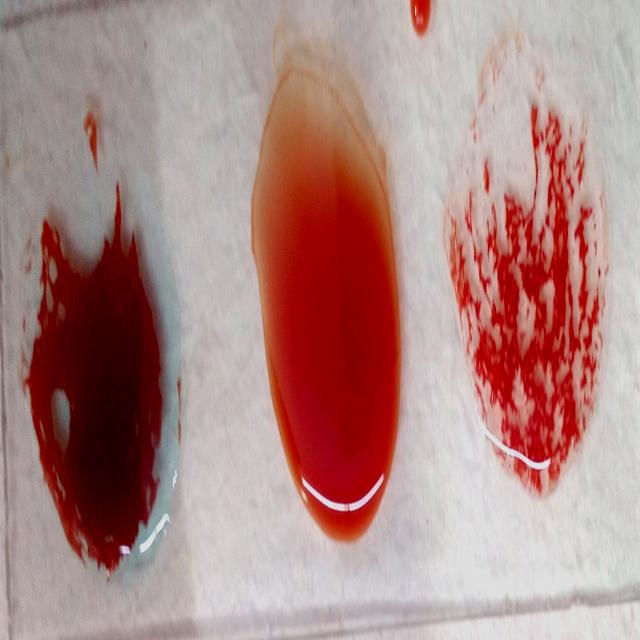A: (26, 138, 172, 588)
D: (465, 60, 608, 494)
